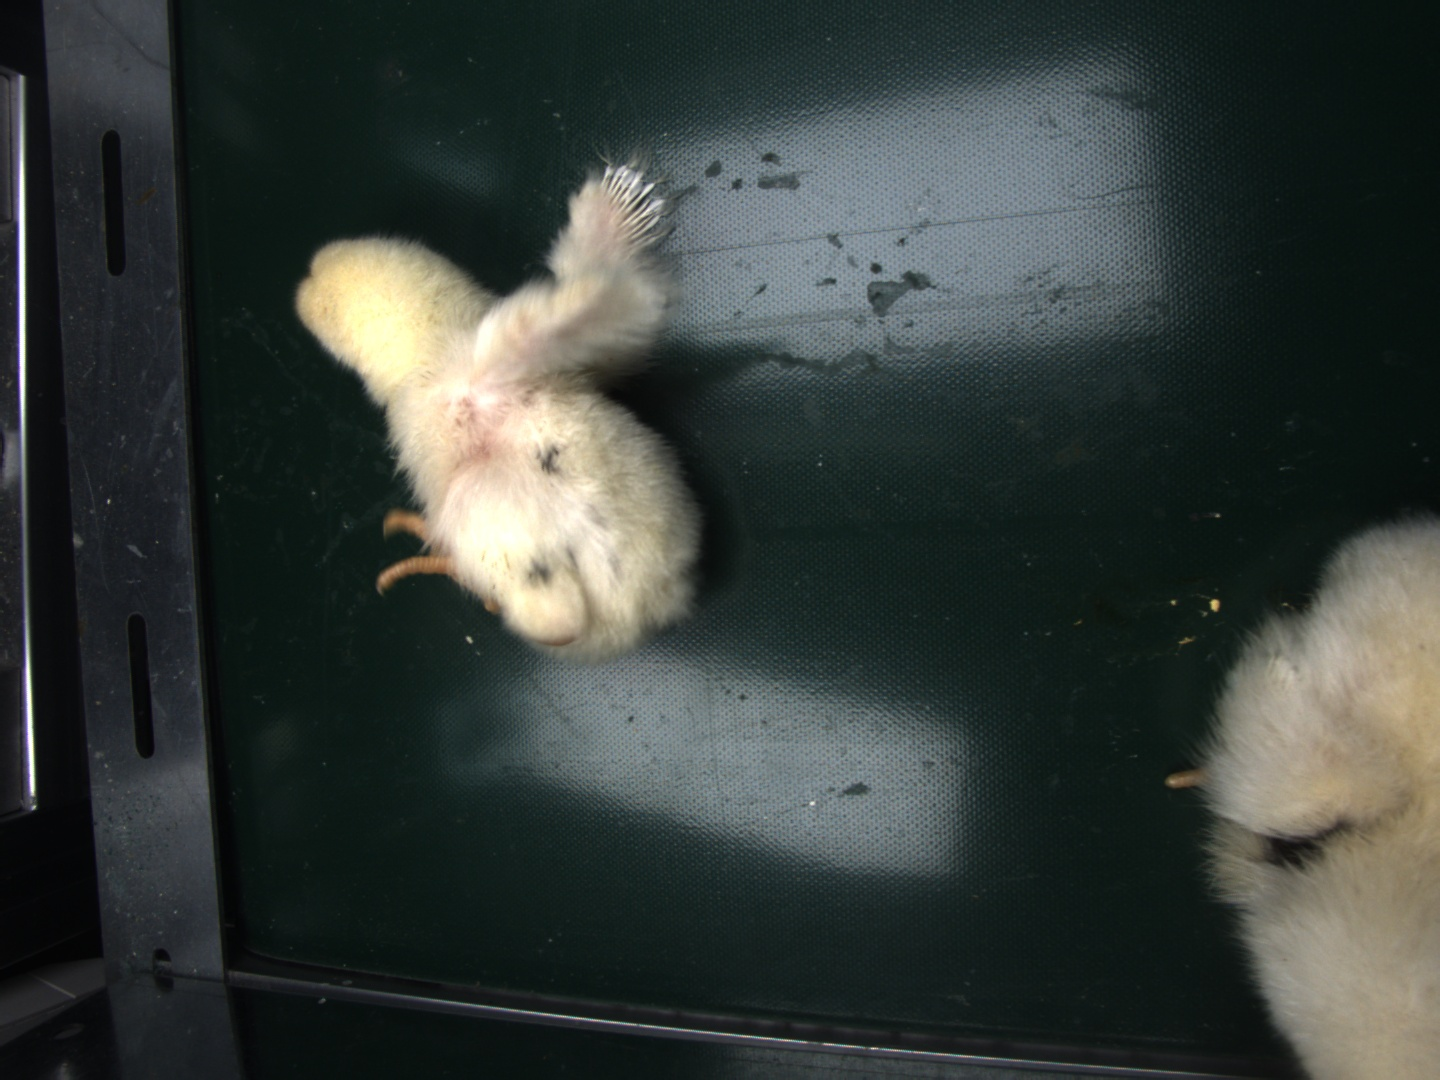male: (598, 159, 672, 253)
